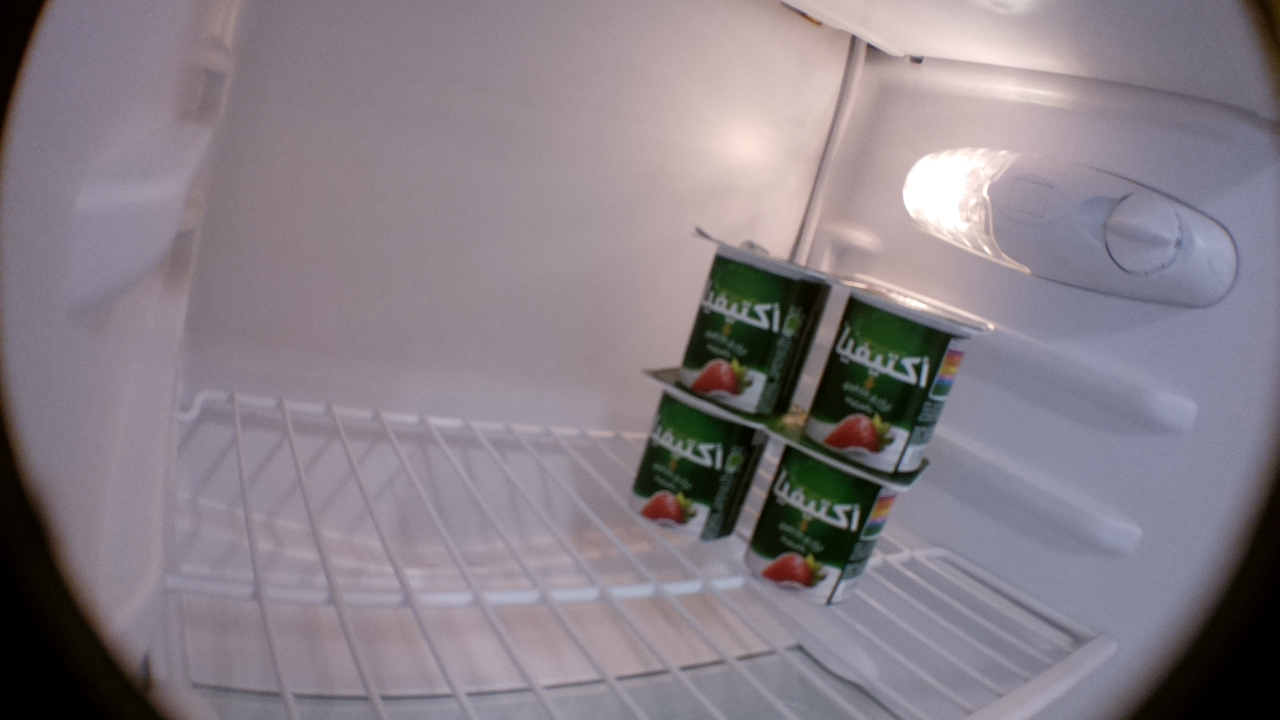yoghurt: (801, 273, 993, 475), (671, 226, 824, 418), (743, 438, 903, 607), (627, 368, 765, 543)
